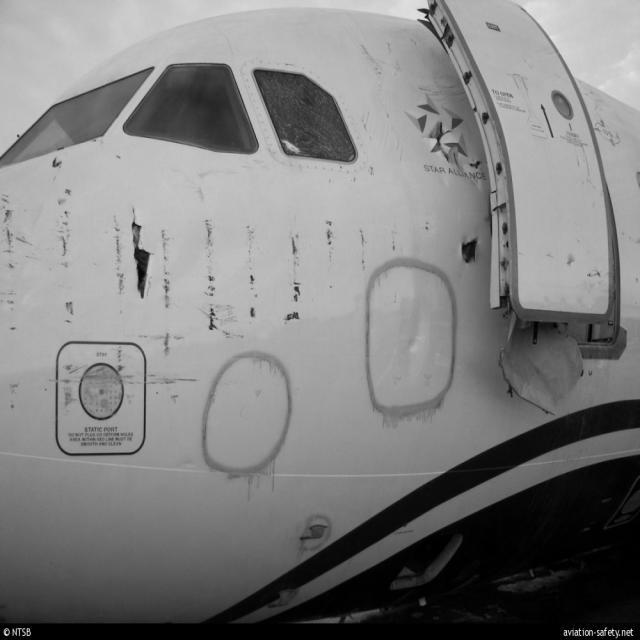crack: (128, 212, 161, 305), (451, 227, 485, 270)
dent: (399, 307, 436, 362)
